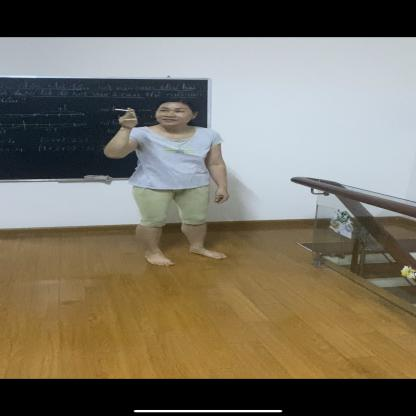cigarette: (113, 108, 129, 112)
person: (107, 96, 232, 272)
